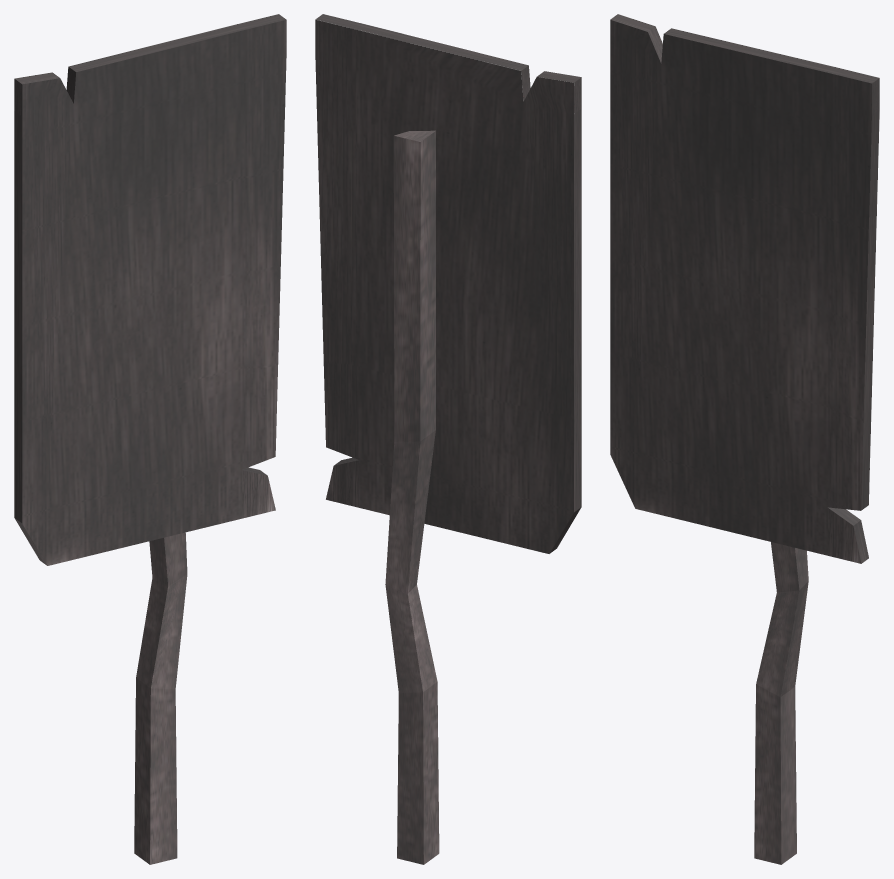
Rendered from EditedSign.obj.
The picture shows the model from 3 angles, left to right: view 1: azimuth 30°, elevation 25°; view 2: azimuth 150°, elevation 25°; view 3: azimuth 330°, elevation 25°; orthographic projection. The views are drawn at different scales.
Parts seen in each view (by area): view 1: WoodenSign; view 2: WoodenSign; view 3: WoodenSign.
Part boxes in pixels (x1,y1,x2,y2): WoodenSign: [14, 14, 286, 864]; WoodenSign: [315, 14, 581, 864]; WoodenSign: [610, 14, 879, 864].
Size of the model in its own units: 0.9644 by 2.86 by 0.1613.
1 material, 1 textured.
